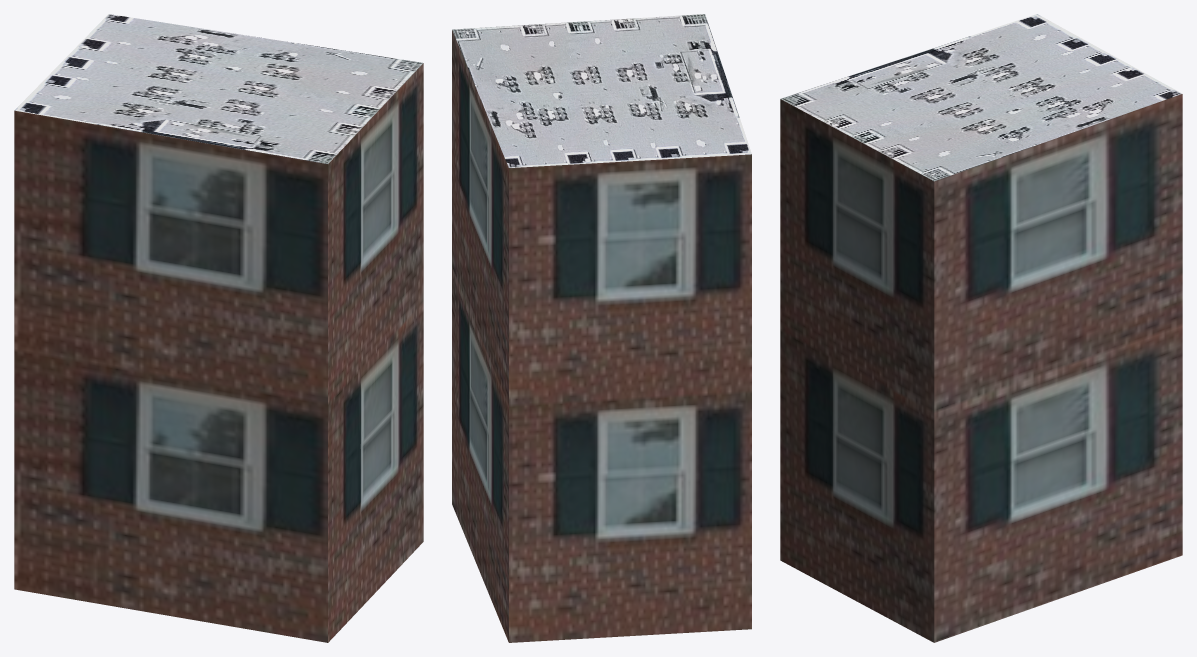
Rendered from ResTex__1536.fbx.
3 views of the same model, side by side, from view 1: azimuth 30°, elevation 25°; view 2: azimuth 150°, elevation 25°; view 3: azimuth 270°, elevation 25° (orthographic). The views are drawn at different scales.
Parts seen in each view (by area): view 1: CityEngineMaterial_14_m, CityEngineMaterial_2_m; view 2: CityEngineMaterial_14_m, CityEngineMaterial_2_m; view 3: CityEngineMaterial_14_m, CityEngineMaterial_2_m.
Boxes of the visible parts, x1=… form: CityEngineMaterial_14_m: x1=14, y1=63, x2=423, y2=642; CityEngineMaterial_2_m: x1=14, y1=14, x2=422, y2=163; CityEngineMaterial_14_m: x1=452, y1=30, x2=751, y2=642; CityEngineMaterial_2_m: x1=452, y1=14, x2=751, y2=167; CityEngineMaterial_14_m: x1=780, y1=94, x2=1182, y2=642; CityEngineMaterial_2_m: x1=780, y1=14, x2=1182, y2=181.
Bounding box in the file's own units: 4.67 × 6 × 4.74.
Materials: 2 (2 with a texture image).
